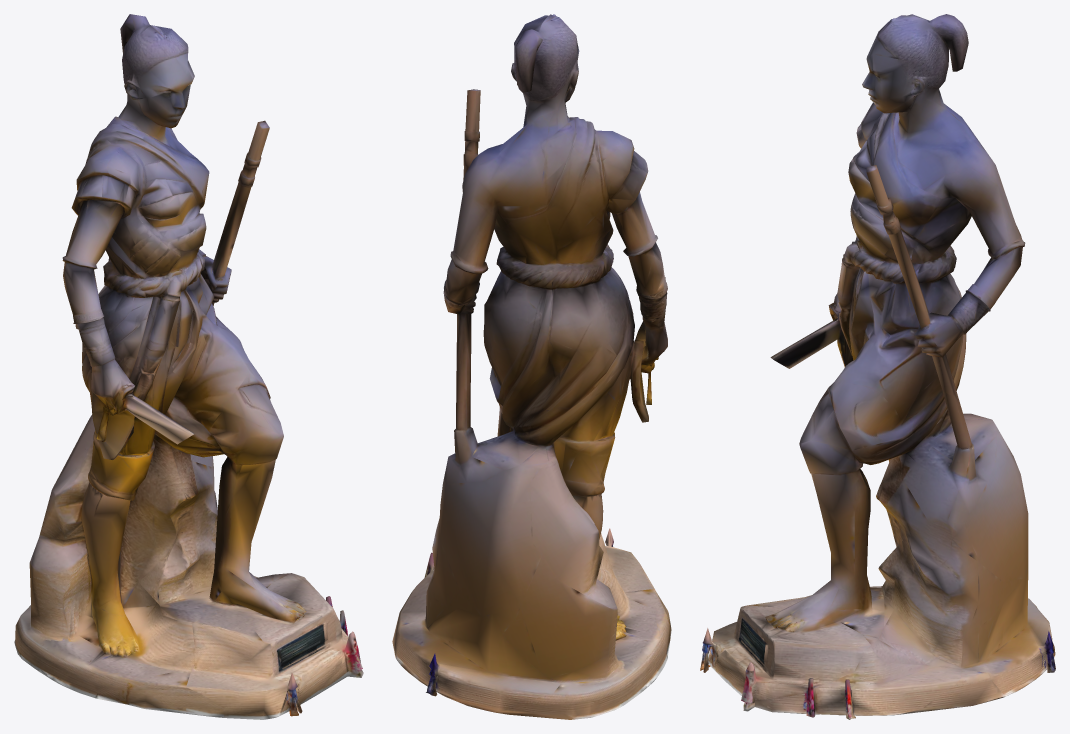
File: amazone.opt.glb
3 renders of one model, left to right at view 1: azimuth 30°, elevation 25°; view 2: azimuth 150°, elevation 25°; view 3: azimuth 270°, elevation 25°, orthographic.
Visible parts, largest first — view 1: node_0; view 2: node_0; view 3: node_0.
Part boxes in pixels (<box>): node_0: <box>14,14,363,719</box>; node_0: <box>392,14,671,719</box>; node_0: <box>700,14,1055,719</box>.
Size of the model in its own units: 0.4514 by 1.06 by 0.5325.
Materials: 1 (1 with a texture image).
